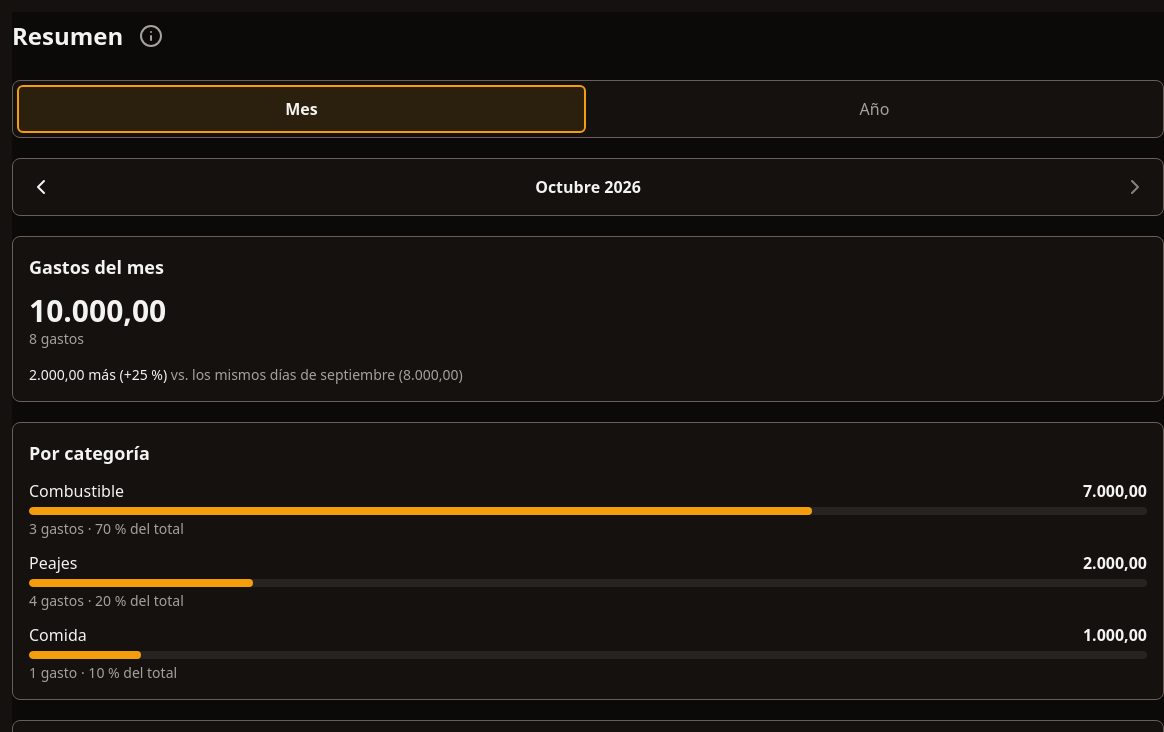
Test case: pantalla Resumen: todos los bloques › cambiar de mes pide los 5 datos de ESE mes (y la comparación con el anterior)
Click the button named "Mes anterior".
click(41, 187)  # box [17,163,65,211]
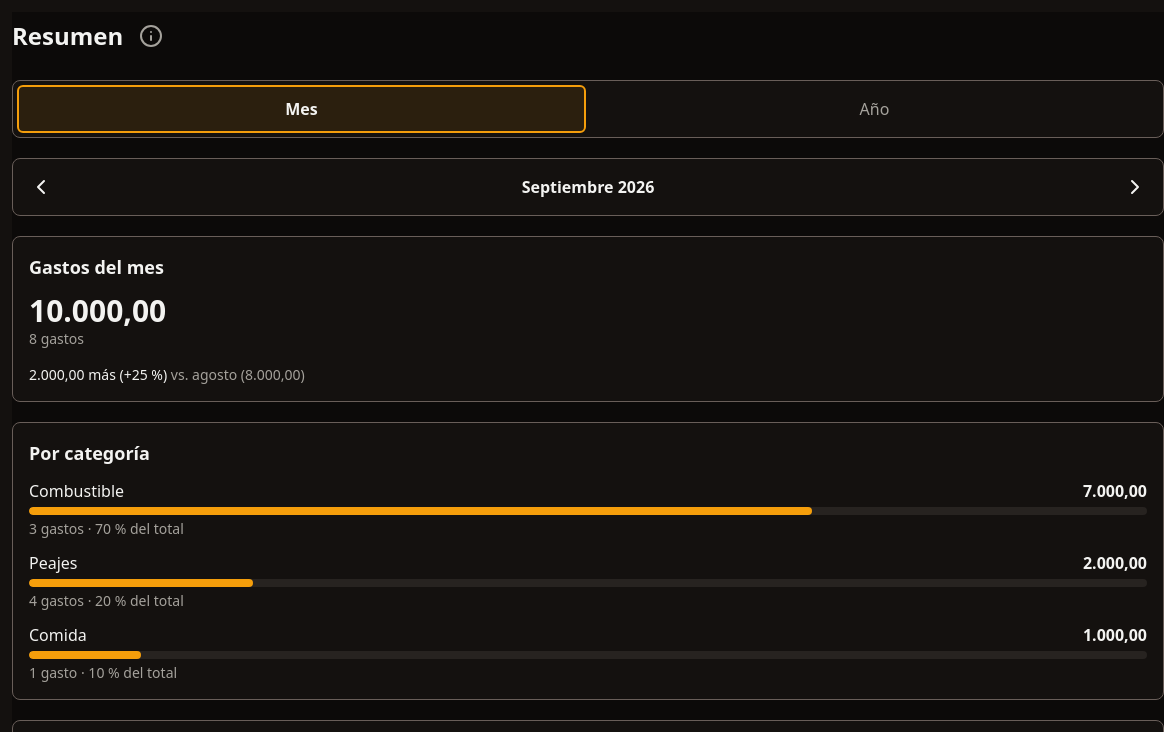
Now the element showing "2.000,00 más (+25 %) vs. agosto (8.000,00)" is shown, box [29,365,305,384]
